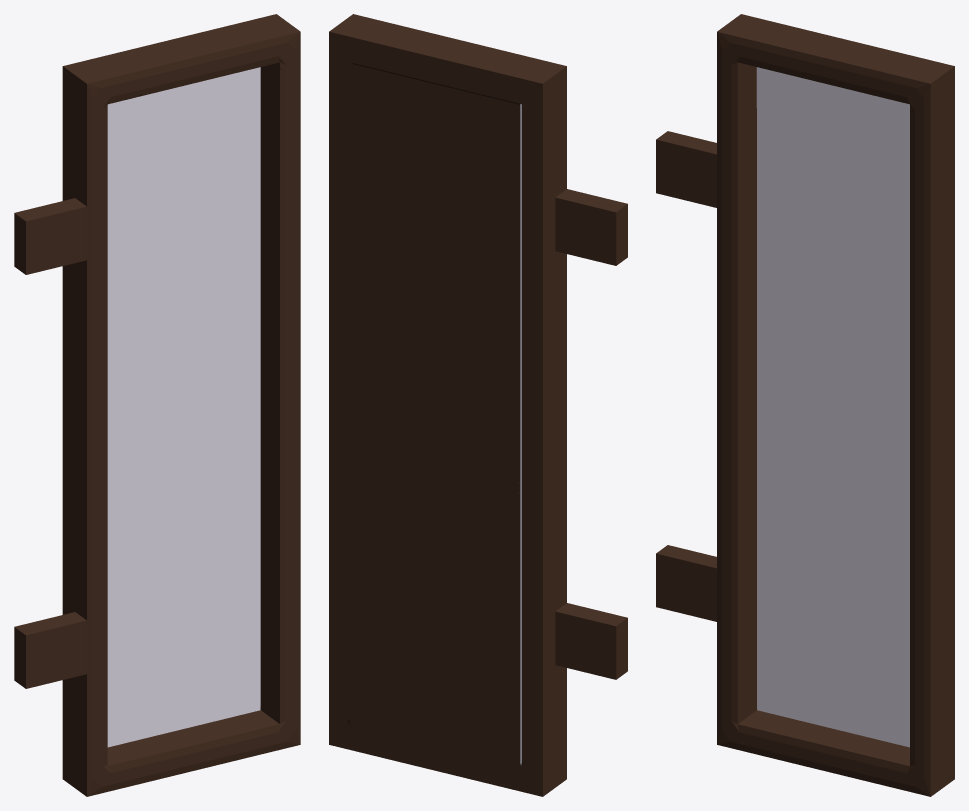
File: ShopSign.fbx
3 renders of one model, left to right at view 1: azimuth 30°, elevation 25°; view 2: azimuth 150°, elevation 25°; view 3: azimuth 330°, elevation 25°, orthographic.
Parts seen in each view (by area): view 1: Cube.001; view 2: Cube.001; view 3: Cube.001.
Boxes of the visible parts, bbox=[...] form: Cube.001: bbox=[14, 14, 300, 796]; Cube.001: bbox=[329, 14, 627, 796]; Cube.001: bbox=[656, 14, 954, 796].
Size of the model in its own units: 861 by 2135 by 135.
Materials: 1 (1 with a texture image).
